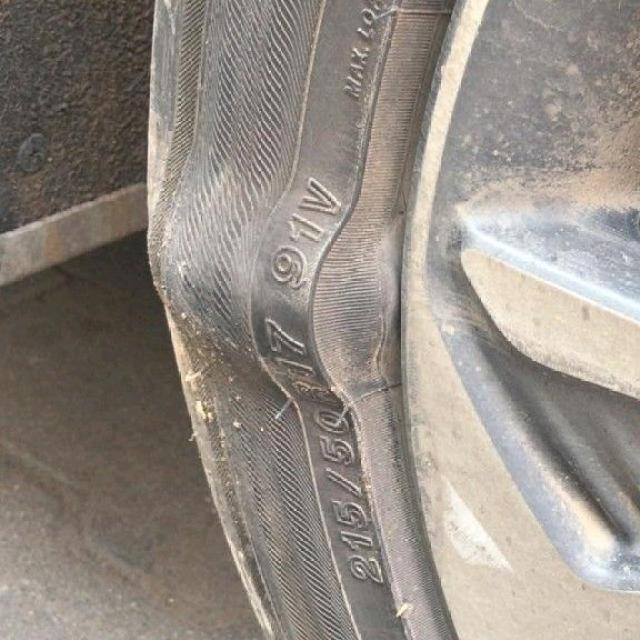Bulge: (137, 160, 404, 395)
